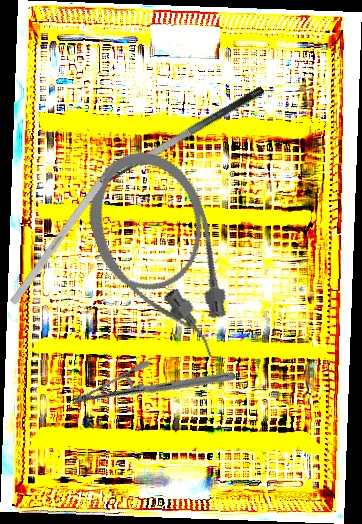Cannula: (72, 136, 248, 380)
Hook Surgical: (9, 150, 125, 306)
Needle Holder: (69, 310, 237, 467)
Spatula Surgical: (84, 84, 274, 206)
